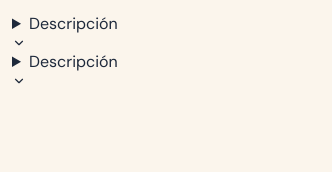
HoverDisclosureCard › opens only the hovered card and still opens when animations are disabled
The image size is (332, 172).
Later steps or results of the test are not shown.
Hover over the 1st element showing "Descripción".
mouse_move(65, 32)  # box [12,13,118,50]
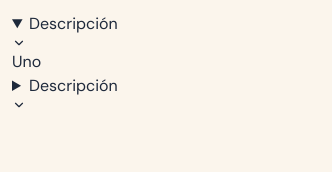
Now the element showing "Uno" is shown, box [12,51,41,72]
